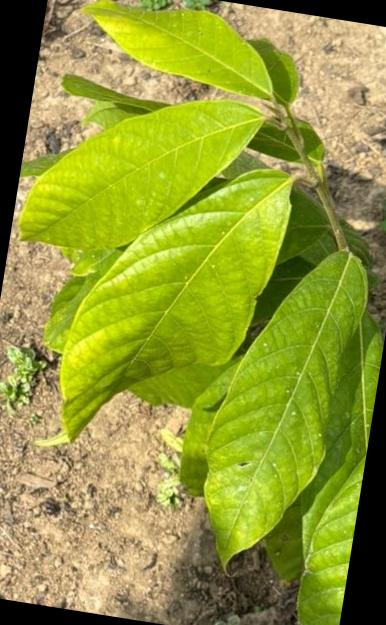Nitrogeno: (60, 170, 289, 434), (204, 250, 365, 565), (20, 99, 263, 248), (82, 0, 272, 98)
